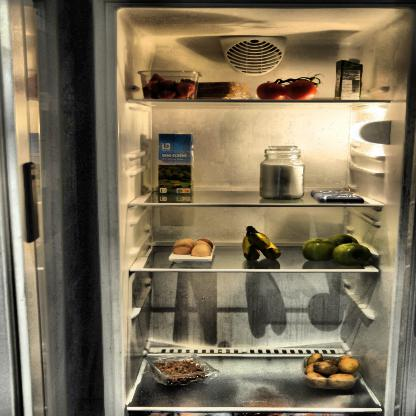apple: (302, 233, 374, 266)
banana: (236, 225, 282, 262)
chocolate: (310, 190, 364, 203)
eggs: (172, 236, 214, 258)
heavy_cream: (332, 58, 366, 102)
milk: (156, 134, 196, 198)
potato: (302, 350, 364, 390)
shrimp: (149, 358, 209, 382)
strawberries: (136, 72, 198, 100)
tomato: (256, 78, 318, 102)
